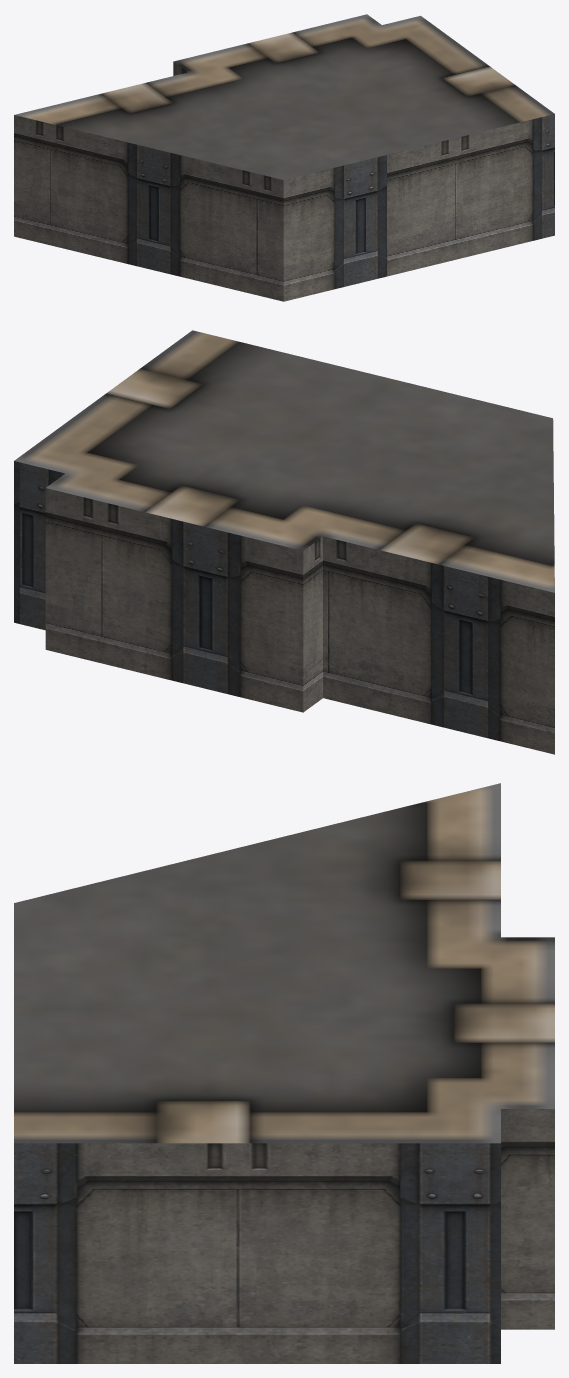
File: building_heavy_24.glb
3 views of the same model, one above another, from view 1: azimuth 30°, elevation 25°; view 2: azimuth 150°, elevation 25°; view 3: azimuth 270°, elevation 25° (orthographic). The views are drawn at different scales.
Visible parts, largest first — view 1: buildings/saxarba/building_heavy/building_heavy_24; view 2: buildings/saxarba/building_heavy/building_heavy_24; view 3: buildings/saxarba/building_heavy/building_heavy_24.
Boxes of the visible parts, x1=… form: buildings/saxarba/building_heavy/building_heavy_24: x1=14, y1=14, x2=554, y2=301; buildings/saxarba/building_heavy/building_heavy_24: x1=14, y1=330, x2=554, y2=754; buildings/saxarba/building_heavy/building_heavy_24: x1=14, y1=783, x2=554, y2=1363.
Size of the model in its own units: 63 by 18 by 40.
